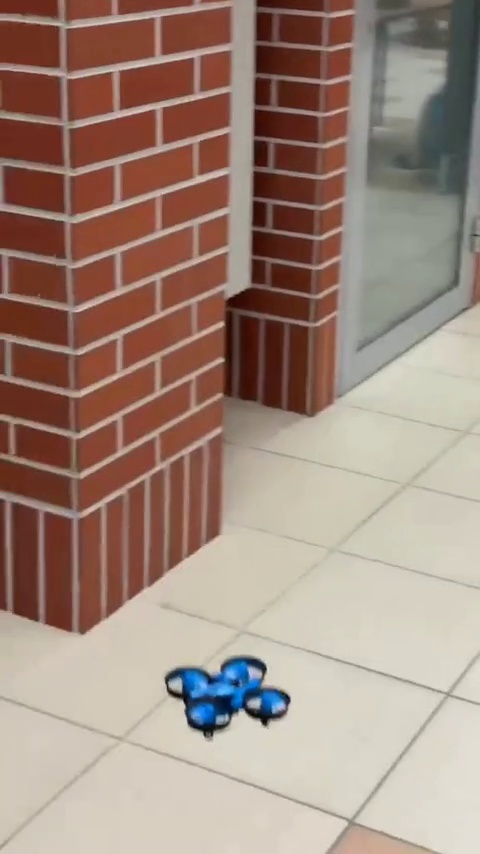drone: (161, 655, 291, 740)
